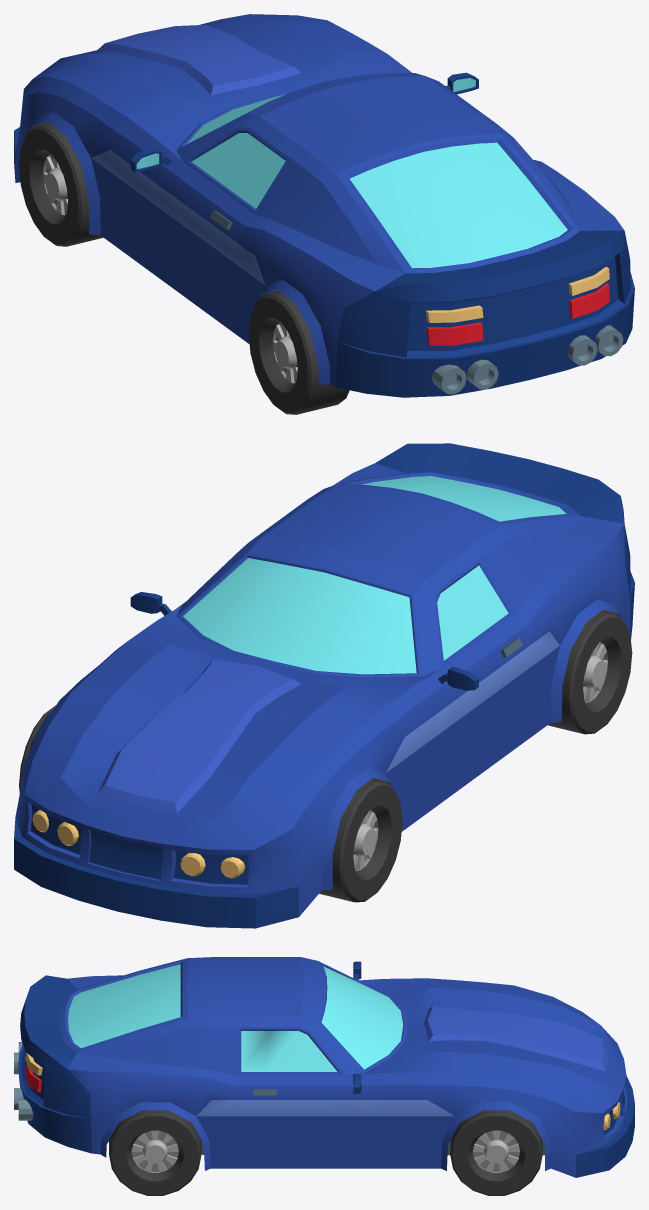
Rendered from Car_3.fbx.
3 views of the same model, one above another, from view 1: azimuth 30°, elevation 25°; view 2: azimuth 150°, elevation 25°; view 3: azimuth 270°, elevation 25° (orthographic). The views are drawn at different scales.
Parts seen in each view (by area): view 1: Body, Hood, Door_Left, Wheel_BackLeft, Wheel_ForwardLeft; view 2: Body, Hood, Door_Left, Wheel_ForwardLeft, Wheel_BackLeft; view 3: Body, Door_Right, Hood, Wheel_BackRight, Wheel_ForwardRight.
Part boxes in pixels (x1,y1,x2,y2): Body: [14, 14, 634, 397]; Hood: [63, 14, 344, 101]; Door_Left: [157, 127, 289, 305]; Wheel_BackLeft: [248, 291, 349, 414]; Wheel_ForwardLeft: [19, 123, 103, 246]; Body: [14, 443, 634, 928]; Hood: [60, 644, 344, 828]; Door_Left: [434, 558, 532, 771]; Wheel_ForwardLeft: [319, 779, 402, 902]; Wheel_BackLeft: [548, 610, 632, 734]; Body: [14, 957, 634, 1177]; Door_Right: [237, 1027, 357, 1151]; Hood: [415, 988, 617, 1082]; Wheel_BackRight: [109, 1110, 201, 1195]; Wheel_ForwardRight: [450, 1110, 542, 1195].
Bounding box in the file's own units: 2.33 × 4.91 × 1.39.
